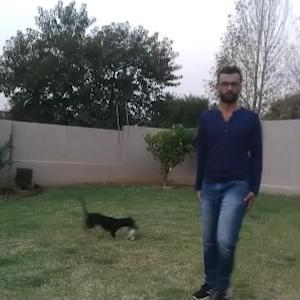follow: (191, 63, 260, 298)
